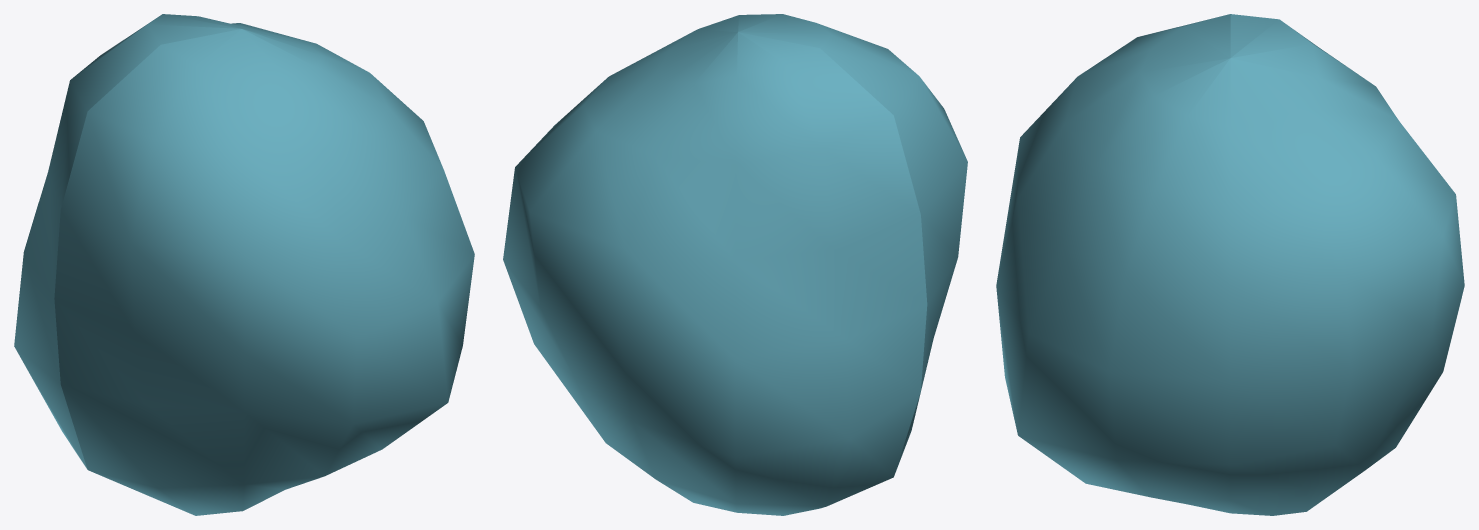
File: right_trapezium.glb
3 views of the same model, side by side, from view 1: azimuth 30°, elevation 25°; view 2: azimuth 150°, elevation 25°; view 3: azimuth 270°, elevation 25° (orthographic).
Parts seen in each view (by area): view 1: right_trapezium:body; view 2: right_trapezium:body; view 3: right_trapezium:body.
Boxes of the visible parts, <box> form: right_trapezium:body: <box>14,14,474,515</box>; right_trapezium:body: <box>503,14,967,515</box>; right_trapezium:body: <box>996,14,1464,515</box>.
Bounding box in the file's own units: 0.0514 × 0.0588 × 0.0539.
